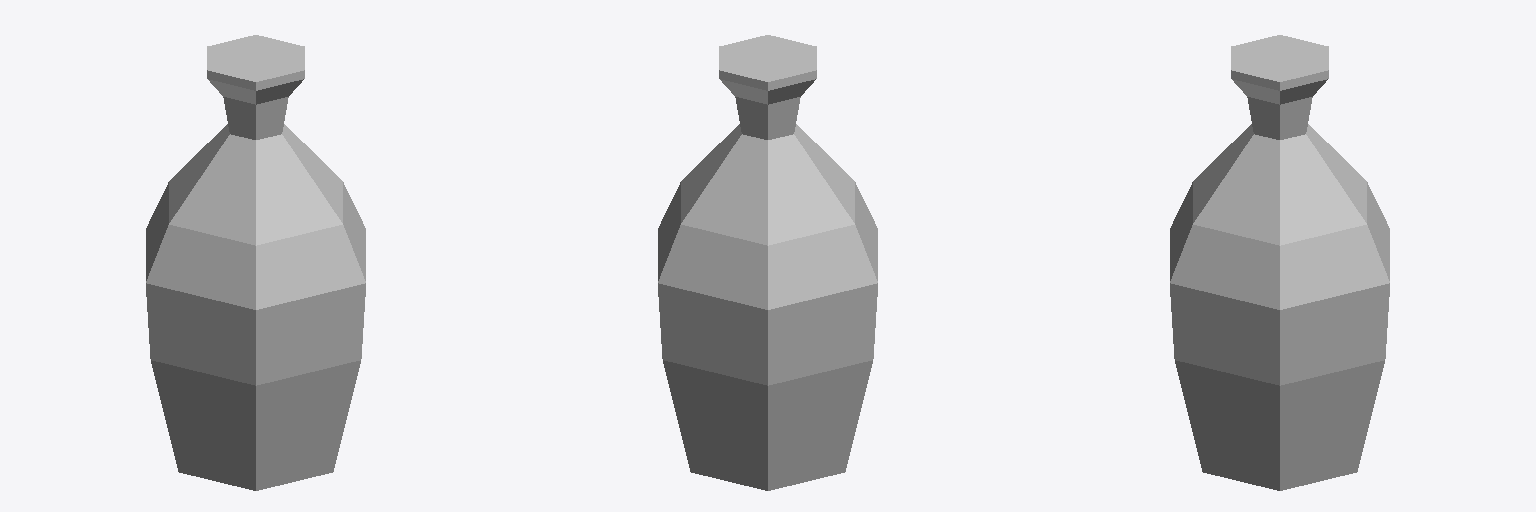
Rendered from Boys_Vase1_01_0201.obj.
3 renders of one model, left to right at view 1: azimuth 30°, elevation 25°; view 2: azimuth 150°, elevation 25°; view 3: azimuth 270°, elevation 25°, orthographic.
Visible parts, largest first — view 1: Vase_1; view 2: Vase_1; view 3: Vase_1.
Part boxes in pixels (bbox=[...]): Vase_1: bbox=[146, 35, 365, 490]; Vase_1: bbox=[658, 35, 877, 490]; Vase_1: bbox=[1170, 35, 1389, 490].
Bounding box in the file's own units: 0.9453 × 1.62 × 0.8186.